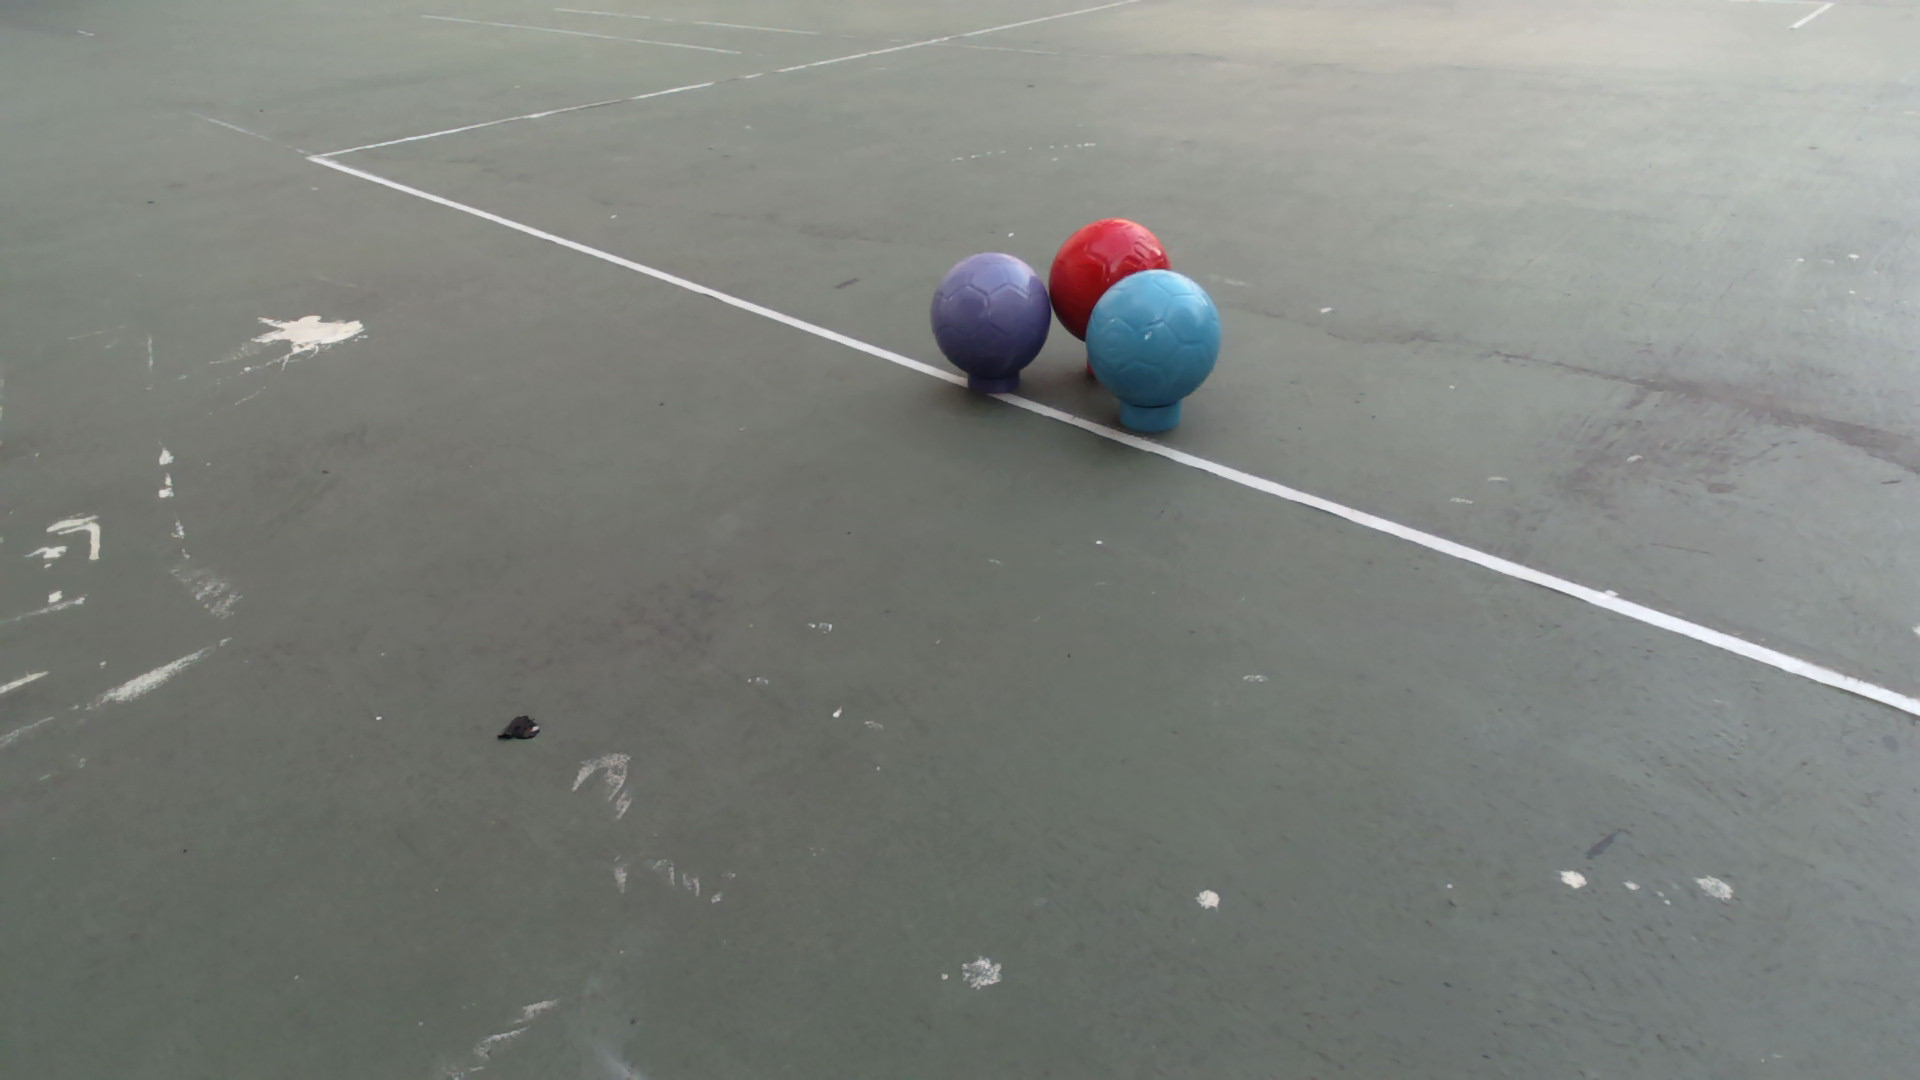Blue ball: (1084, 266, 1222, 407)
Purple ball: (928, 249, 1052, 378)
Red ball: (1048, 216, 1168, 330)
